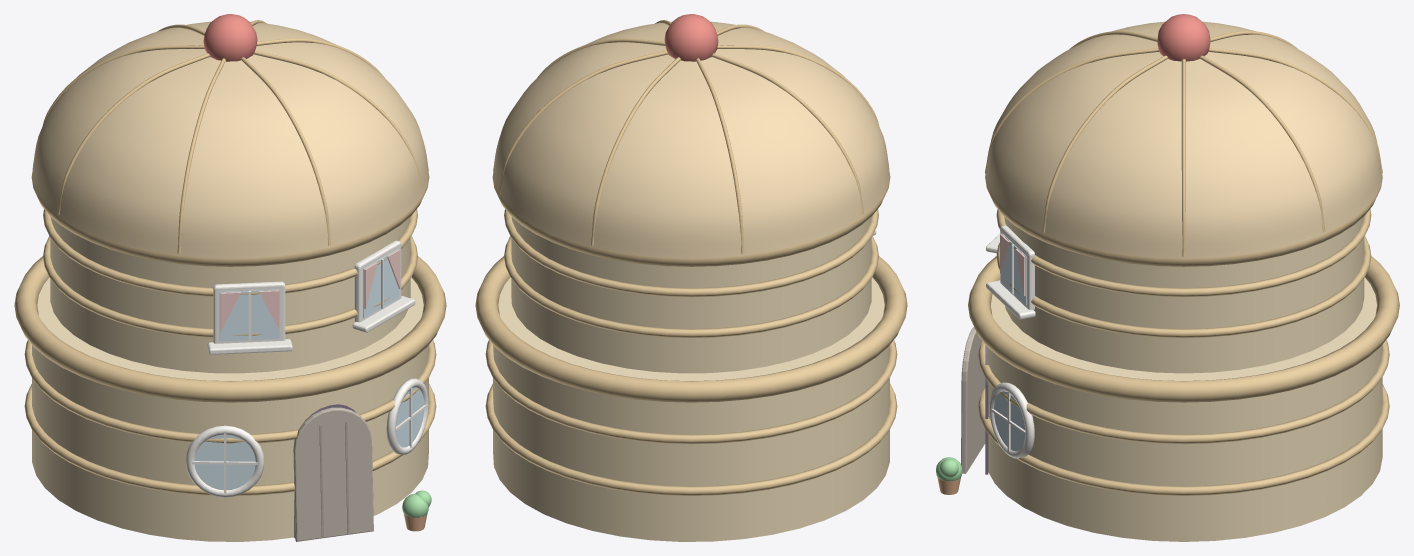
Rendered from building_dumpling_L05.glb.
The picture shows the model from 3 angles, left to right: view 1: azimuth 30°, elevation 25°; view 2: azimuth 150°, elevation 25°; view 3: azimuth 270°, elevation 25°; orthographic projection.
Parts seen in each view (by area): view 1: Body, dumpling_L5; view 2: Body; view 3: Body, dumpling_L5.
Part boxes in pixels (left/top/right/bottom): Body: left=14, top=14, right=446, bottom=541; dumpling_L5: left=402, top=490, right=431, bottom=531; Body: left=475, top=14, right=907, bottom=541; Body: left=961, top=14, right=1399, bottom=541; dumpling_L5: left=936, top=457, right=962, bottom=494.
Bounding box in the file's own units: 14.36 × 16.24 × 15.42.
